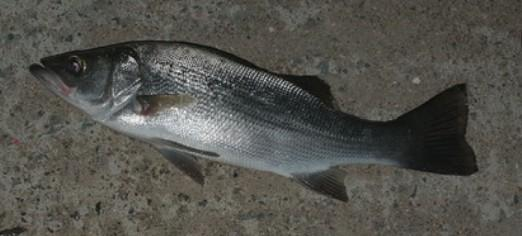fish: (29, 41, 477, 200)
